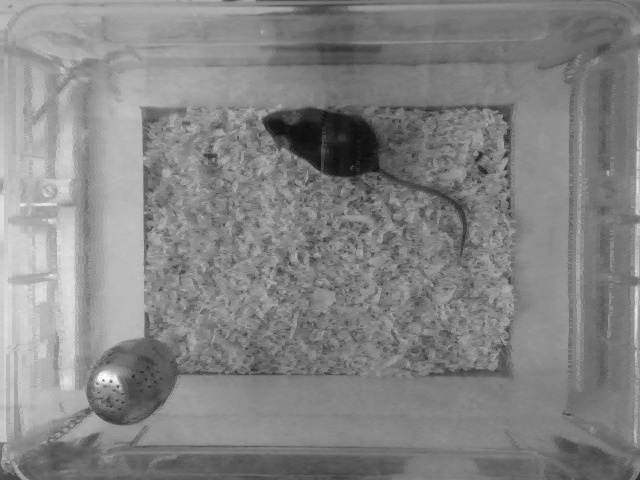mice: (260, 105, 474, 259)
